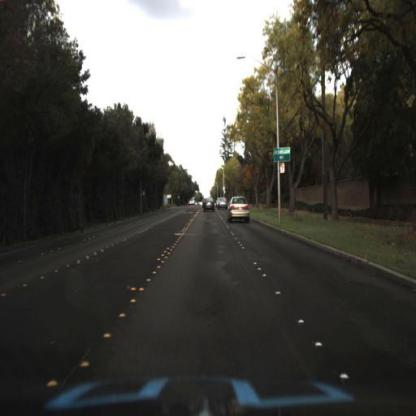car: (227, 191, 250, 224), (203, 195, 216, 216), (216, 193, 230, 212), (219, 198, 228, 210)
